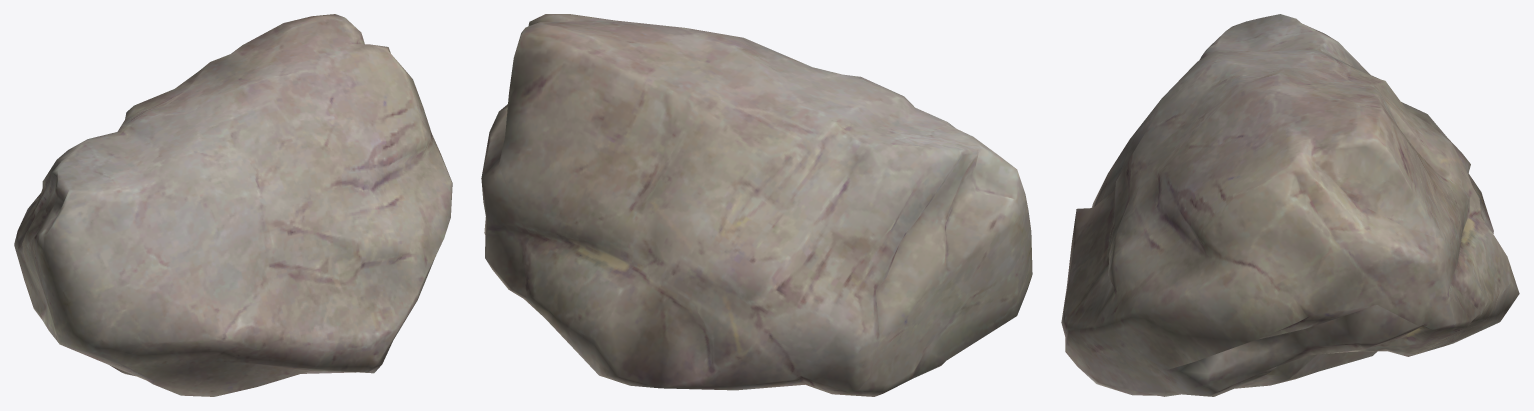
File: Homeworld_Exterior_Common_Stone_Stone_06_Lod0.fbx
3 renders of one model, left to right at view 1: azimuth 30°, elevation 25°; view 2: azimuth 150°, elevation 25°; view 3: azimuth 270°, elevation 25°, orthographic. The views are drawn at different scales.
Parts seen in each view (by area): view 1: Area_Ly_Rock_HZ_River_02_Lod0; view 2: Area_Ly_Rock_HZ_River_02_Lod0; view 3: Area_Ly_Rock_HZ_River_02_Lod0.
Boxes of the visible parts, x1=… form: Area_Ly_Rock_HZ_River_02_Lod0: x1=14, y1=14, x2=452, y2=396; Area_Ly_Rock_HZ_River_02_Lod0: x1=481, y1=14, x2=1032, y2=396; Area_Ly_Rock_HZ_River_02_Lod0: x1=1061, y1=14, x2=1519, y2=396.
Bounding box in the file's own units: 7.39 × 5 × 6.37.
